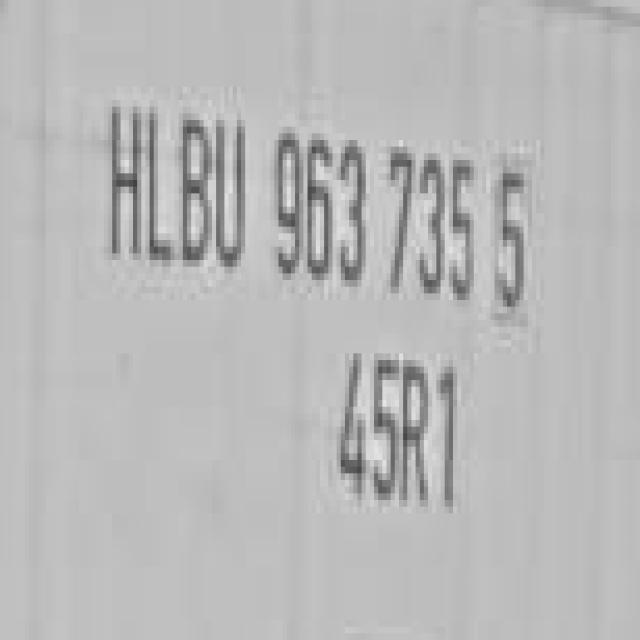dv: (488, 151, 550, 328)
owner: (96, 86, 256, 287)
serial: (269, 109, 478, 312)
size: (322, 338, 479, 520)
